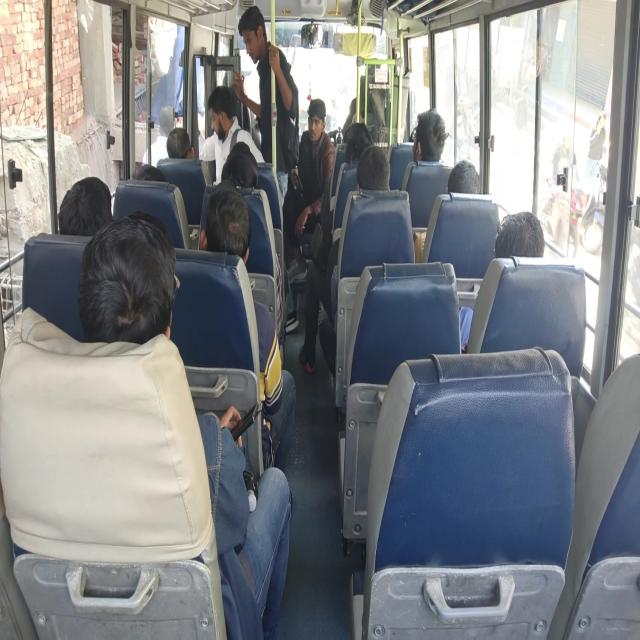person: (94, 224, 182, 342), (497, 207, 548, 280), (56, 172, 110, 240), (206, 194, 251, 259), (238, 5, 272, 65), (444, 157, 482, 205), (412, 118, 444, 160), (360, 159, 396, 192), (138, 163, 170, 199), (208, 89, 236, 125), (226, 154, 252, 190), (349, 129, 378, 160), (310, 94, 322, 136), (168, 132, 186, 155), (408, 122, 419, 140), (229, 141, 249, 149)
